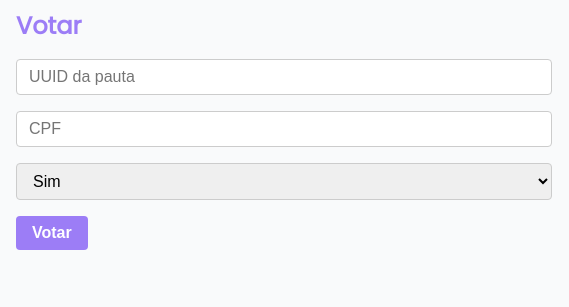
Test: Vote › permite votar com sucesso
The image size is (569, 307).
Type "1234" into the field with placeholder "UUID da pauta" at (284, 77), box [16,59,552,95]
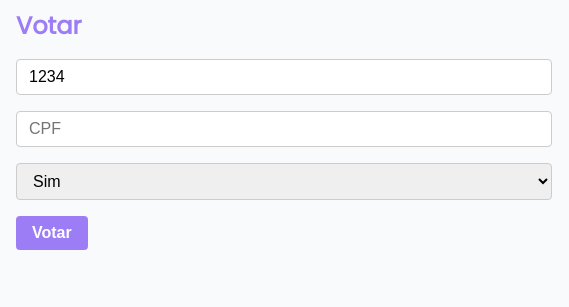
Type "12345678900" into the field with placeholder "CPF" at (284, 129), box [16,111,552,147]
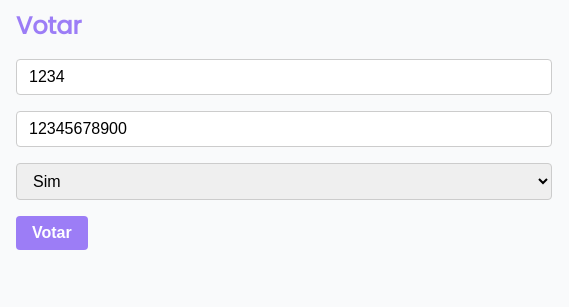
Select "Não" in the dropdown showing "Sim" at (284, 182), box [16,163,552,200]
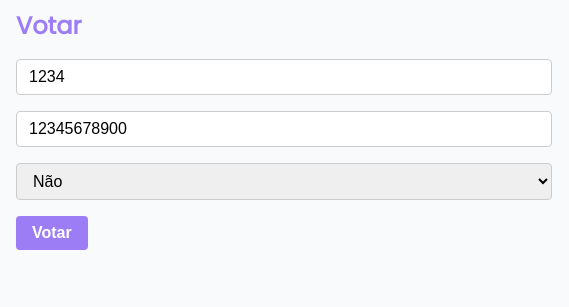
Click the button "Votar" at (52, 233), box [16,216,88,250]
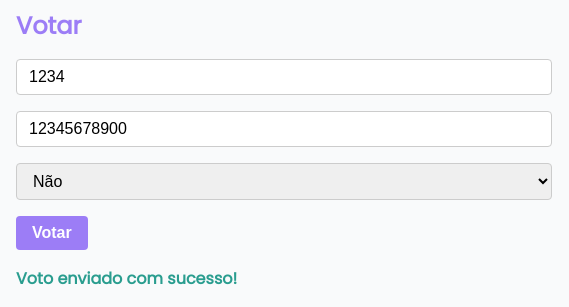
Result: the text "Voto enviado com sucesso!" is shown at [16,267,237,290]
